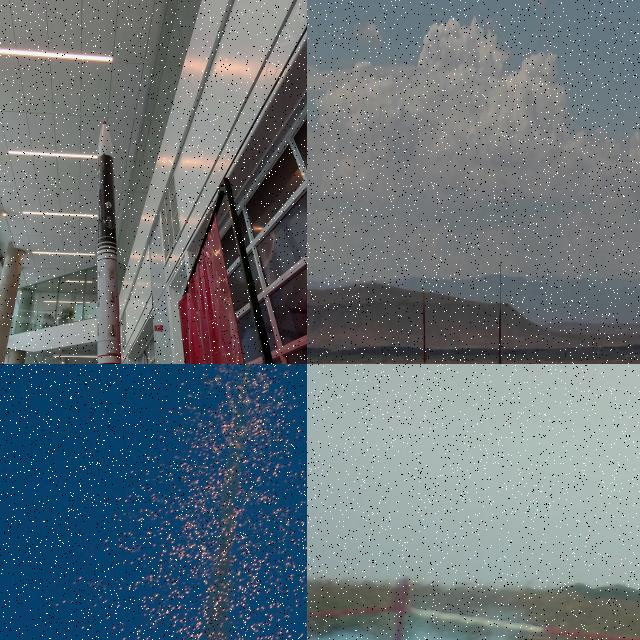Rocket: (97, 121, 121, 364), (422, 288, 427, 363), (496, 307, 502, 364)
